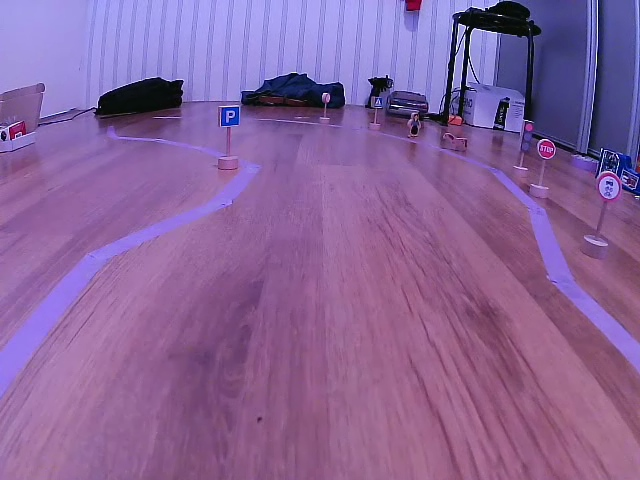fietspad: (596, 169, 621, 203)
mens: (407, 112, 423, 139)
paard: (441, 132, 470, 153)
parkeerbord: (220, 106, 240, 127)
roodlicht: (521, 119, 534, 155)
stopbord: (537, 137, 554, 160)
